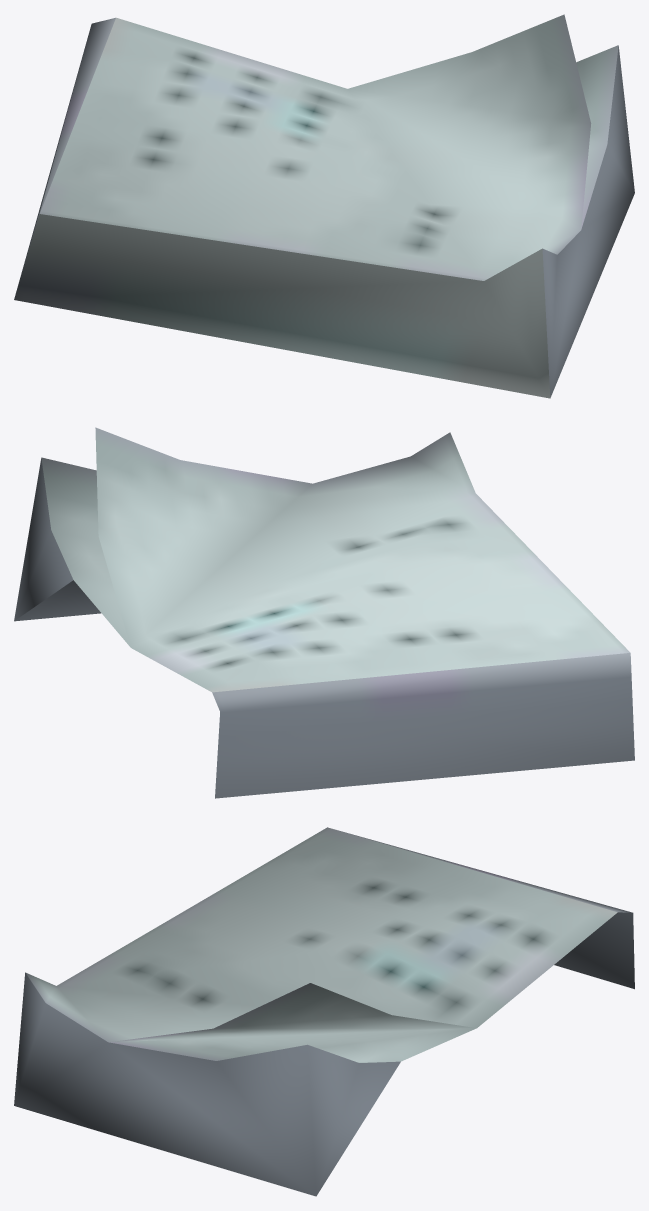
The model's file is fg_paper_out.dae.
3 views of the same model, one above another, from view 1: azimuth 30°, elevation 25°; view 2: azimuth 150°, elevation 25°; view 3: azimuth 270°, elevation 25° (orthographic). The views are drawn at different scales.
Visible parts, largest first — view 1: fg_paper_out; view 2: fg_paper_out; view 3: fg_paper_out.
Part boxes in pixels (left/top/right/bottom): fg_paper_out: left=14, top=14, right=634, bottom=398; fg_paper_out: left=14, top=427, right=634, bottom=798; fg_paper_out: left=14, top=827, right=634, bottom=1196.
Size of the model in its own units: 18.1 by 6.35 by 17.72.
1 material, 1 textured.
